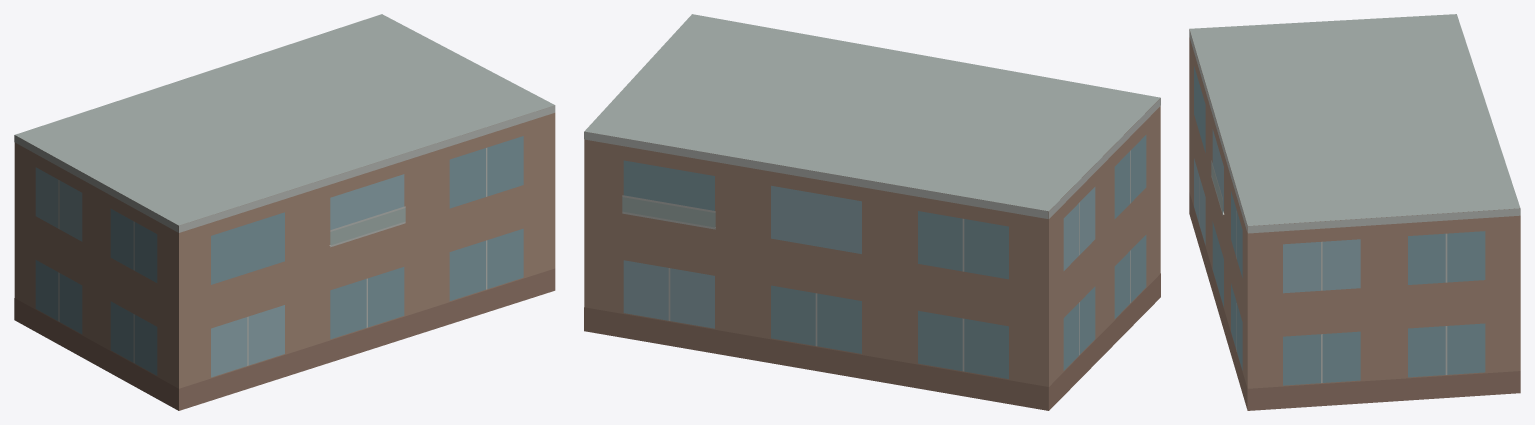
File: survey-upis-32994956.glb
3 renders of one model, left to right at view 1: azimuth 30°, elevation 25°; view 2: azimuth 150°, elevation 25°; view 3: azimuth 270°, elevation 25°, orthographic. The views are drawn at different scales.
Parts seen in each view (by area): view 1: survey-upis-32994956.tmp; view 2: survey-upis-32994956.tmp; view 3: survey-upis-32994956.tmp.
Boxes of the visible parts, <box> form: survey-upis-32994956.tmp: <box>14,14,555,410</box>; survey-upis-32994956.tmp: <box>584,14,1160,410</box>; survey-upis-32994956.tmp: <box>1189,14,1520,410</box>.
Size of the model in its own units: 15.03 by 6.1 by 9.92.
